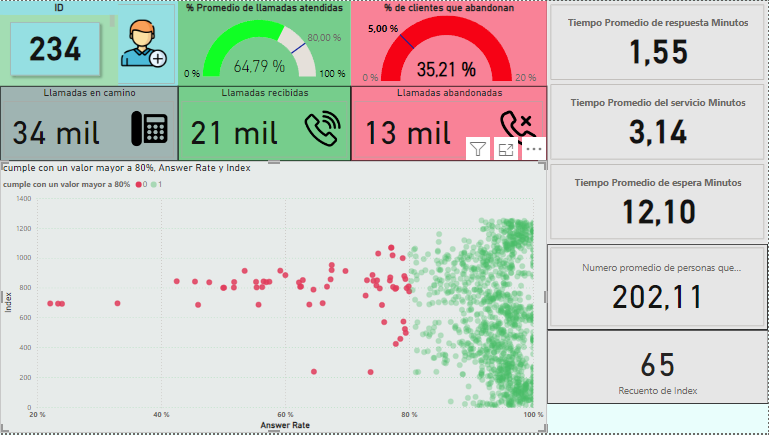

This screenshot's page, from the dashboard's own definition file:
{"tool":"powerbi","page":{"name":"Página 3","canvas":[1280,720],"ordinal":1},"visuals":[{"type":"cardVisual","fields":{"Data":["Count(Call Center Data.Index)"]},"box":[0,0,296.7,143.3],"z":0},{"type":"gauge","fields":{"Y":["Call Center Data.% Promedio de llamadas atendidas"]},"box":[296.7,0,288.3,143.3],"z":1000},{"type":"gauge","fields":{"Y":["Call Center Data.% de clientes que abandonan"]},"box":[585,0,326.7,143.3],"z":2000},{"type":"scatterChart","fields":{"Y":["Call Center Data.Index"],"X":["Call Center Data.Answer Rate"],"Series":["Call Center Data.cumple con un valor mayor a 80%"]},"box":[0,266.7,911.7,453.3],"z":3000},{"type":"cardVisual","fields":{"Data":["Call Center Data.promedio de personas que abandonan"]},"box":[911.7,405,368.3,143.3],"z":4000},{"type":"cardVisual","fields":{"Data":["Avg(Call Center Data.Tiempo de respuesta)","Avg(Call Center Data.Tiempo de habla)","Avg(Call Center Data.Tiempo de espera)"]},"box":[911.7,0,368.3,405],"z":5000},{"type":"cardVisual","title":"Llamadas recibidas","fields":{"Data":["Sum(Call Center Data.Answered Calls)"]},"box":[296.7,141.7,288.3,125],"z":6000},{"type":"advancedSlicerVisual","title":"ID ","fields":{"Values":["Call Center Data.Index"]},"box":[0,0,196.7,141.7],"z":7000},{"type":"cardVisual","title":"Llamadas en camino","fields":{"Data":["Sum(Call Center Data.Incoming Calls)"]},"box":[0,141.7,296.7,125],"z":8000},{"type":"cardVisual","title":"Llamadas abandonadas","fields":{"Data":["Sum(Call Center Data.Abandoned Calls)"]},"box":[585,141.7,326.7,125],"z":9000},{"type":"card","fields":{"Values":["Count(Call Center Data.Index)"]},"box":[911.4,548.6,368.6,122.9],"z":9001}]}

Visuals, with their boxes in screenshot pixels (x1, y1, x2, y2), scaled from the page's 1280x720 canvas onto the 769x435 screenshot:
cardVisual - Count(Call Center Data.Index): select_region(0, 0, 178, 87)
gauge - Call Center Data.% Promedio de llamadas atendidas: select_region(178, 0, 351, 87)
gauge - Call Center Data.% de clientes que abandonan: select_region(351, 0, 548, 87)
scatterChart - Call Center Data.Index x Call Center Data.Answer Rate: select_region(0, 161, 548, 434)
cardVisual - Call Center Data.promedio de personas que abandonan: select_region(548, 245, 768, 331)
cardVisual - Avg(Call Center Data.Tiempo de respuesta) x Avg(Call Center Data.Tiempo de habla): select_region(548, 0, 768, 245)
"Llamadas recibidas" cardVisual: select_region(178, 86, 351, 161)
"ID " advancedSlicerVisual: select_region(0, 0, 118, 86)
"Llamadas en camino" cardVisual: select_region(0, 86, 178, 161)
"Llamadas abandonadas" cardVisual: select_region(351, 86, 548, 161)
card - Count(Call Center Data.Index): select_region(548, 331, 768, 406)
